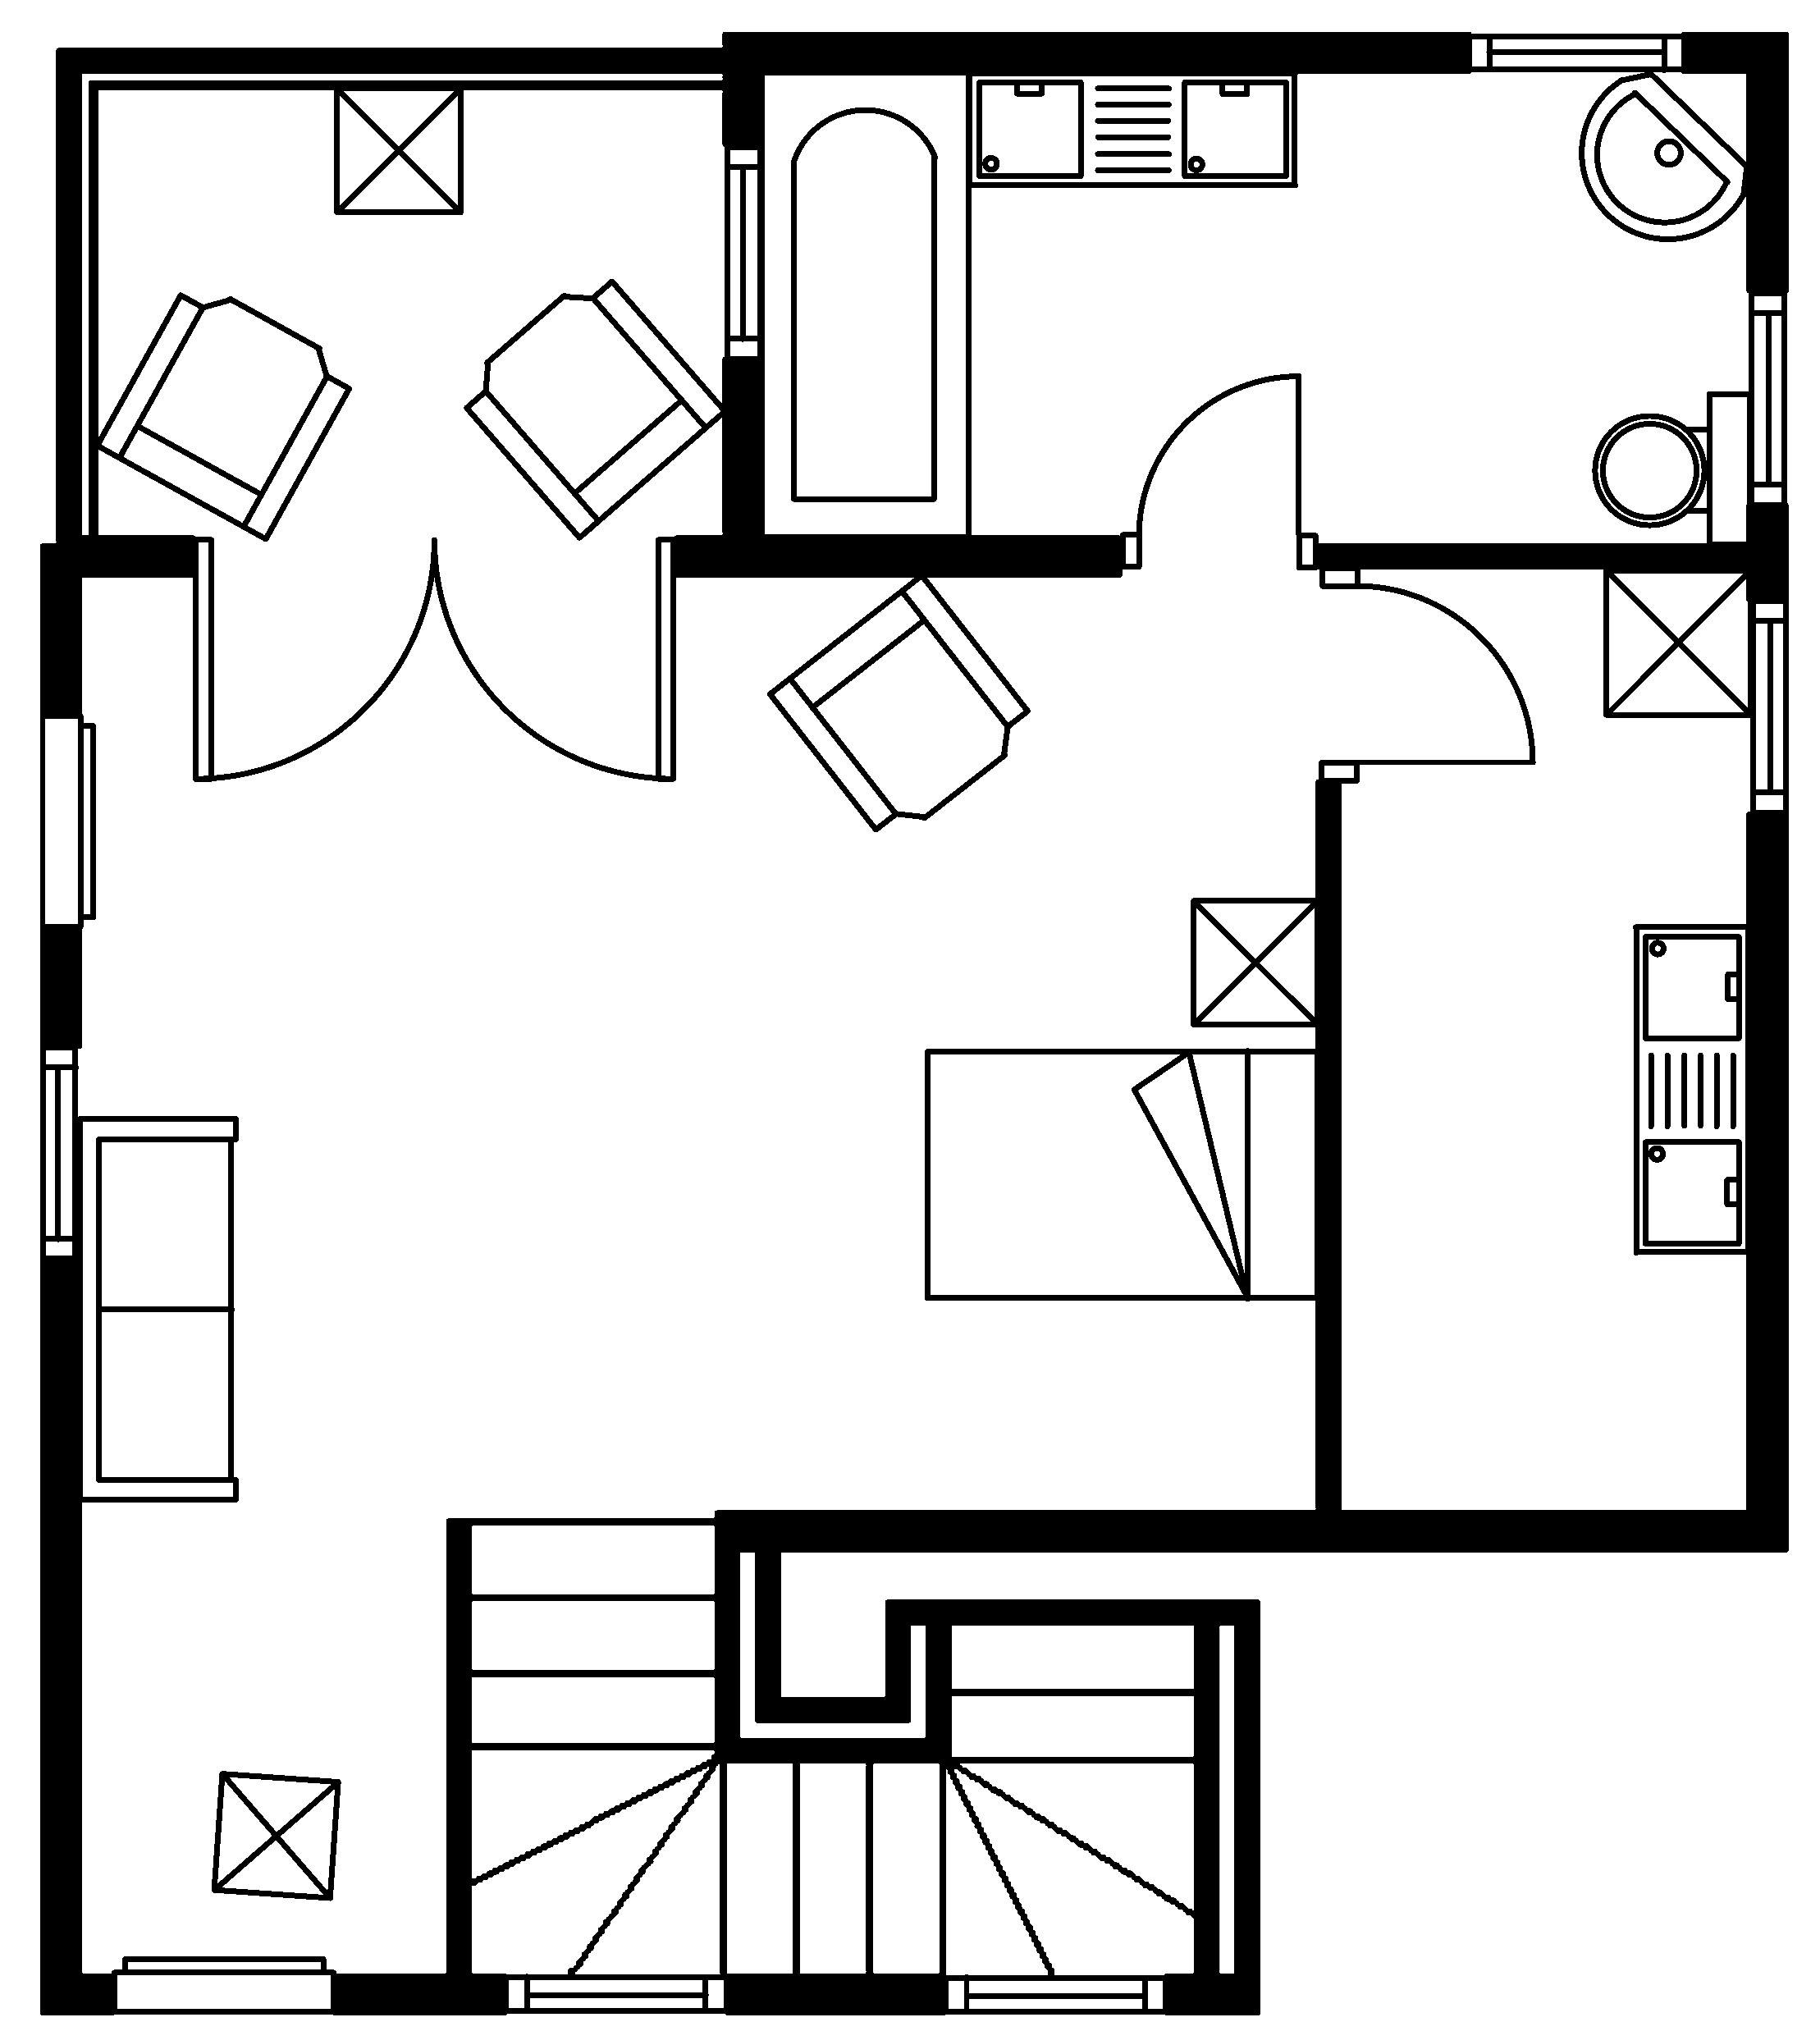armchair: (462, 276, 727, 541), (766, 571, 1031, 833), (93, 290, 351, 543)
bed: (922, 1047, 1321, 1302)
coffee_table: (1602, 566, 1753, 719), (1189, 896, 1321, 1028), (209, 1769, 341, 1901), (332, 84, 464, 214)
large_sink: (1592, 388, 1753, 548)
large_sofa: (76, 1114, 239, 1502)
small_sink: (1578, 70, 1750, 241)
tub: (757, 69, 971, 539)
twin_sink: (1630, 922, 1751, 1256), (964, 69, 1298, 188)
